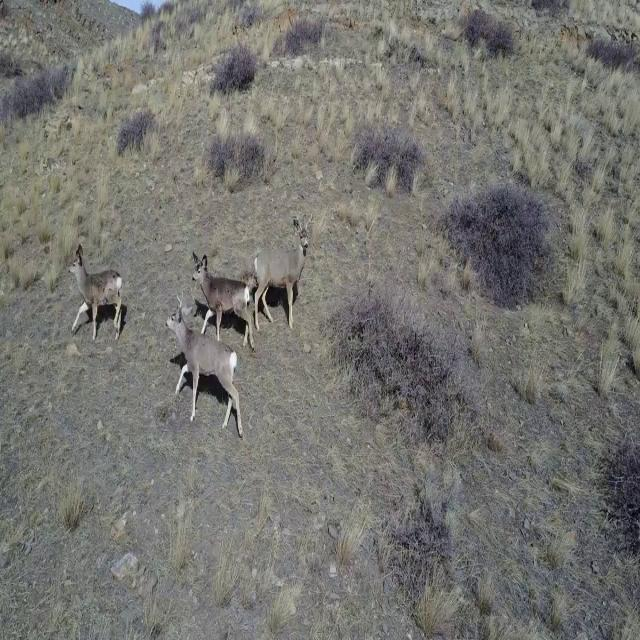Deer: (165, 290, 246, 441), (253, 211, 317, 329), (189, 248, 259, 354), (67, 244, 125, 345)
